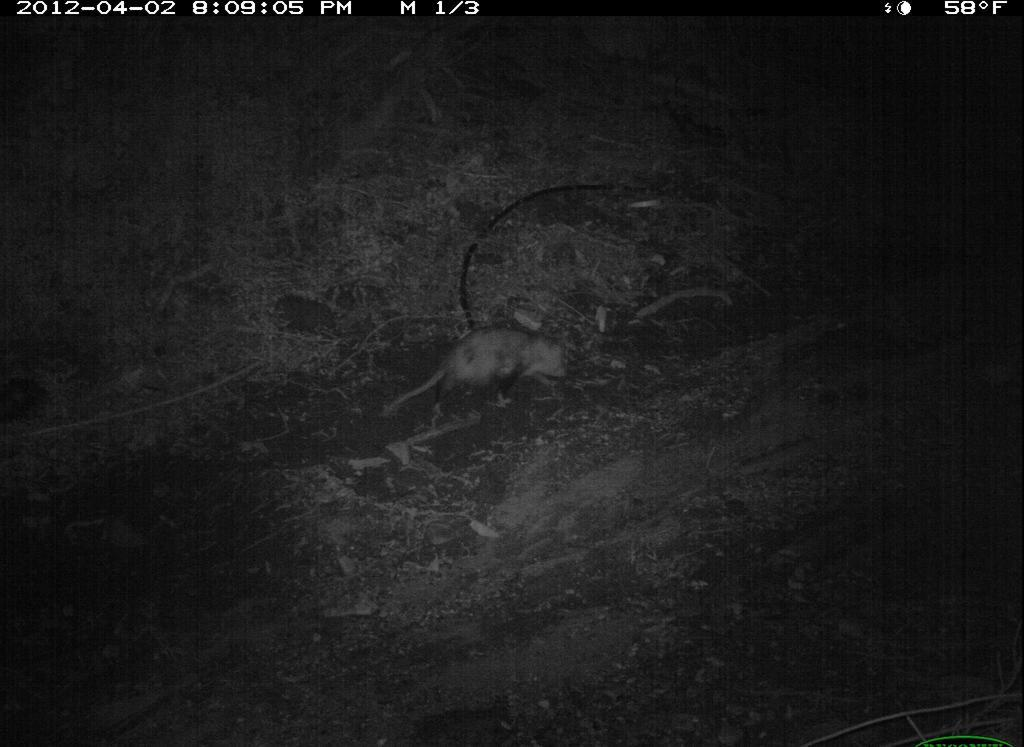opossum: (370, 314, 578, 440)
